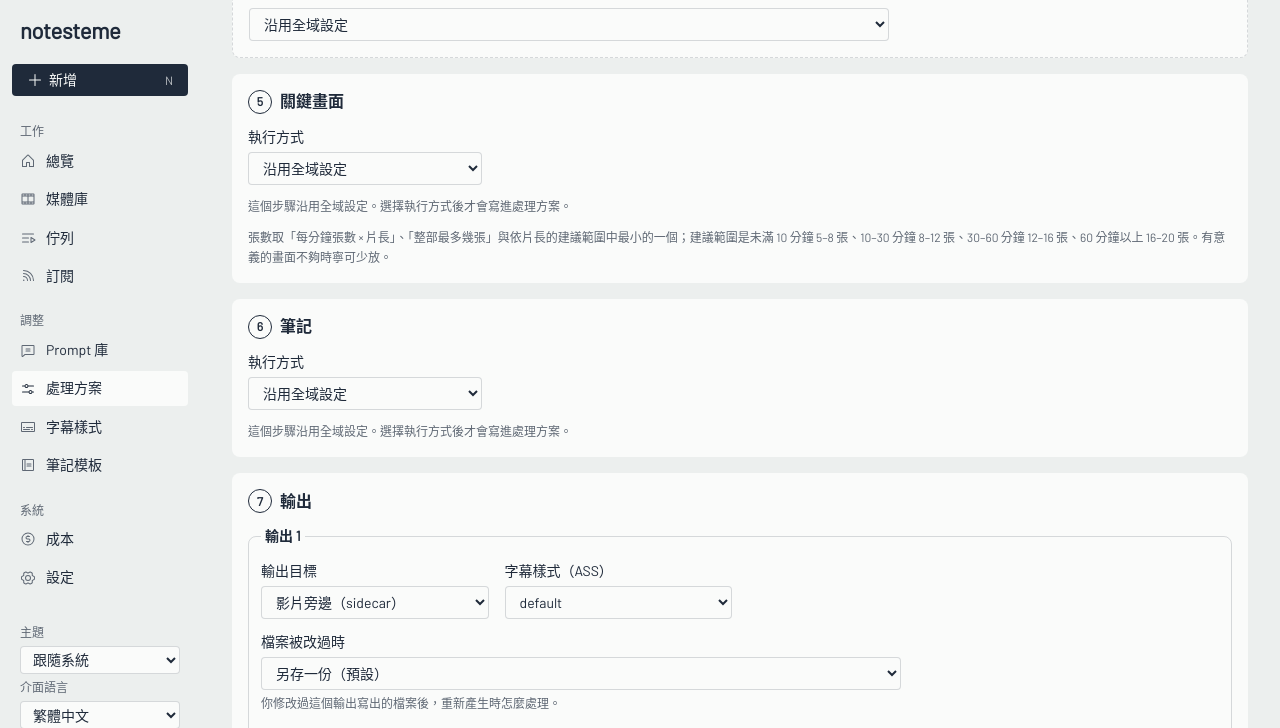
Scenario: 處理方案：編輯 › 筆記步驟的 422 顯示在筆記的欄位旁
(page scrolled)
Select "API 處理" in the 2nd dropdown labelled "執行方式" at coordinates (365, 394), box top-left (248, 377), bottom-right (482, 410)
(page scrolled)
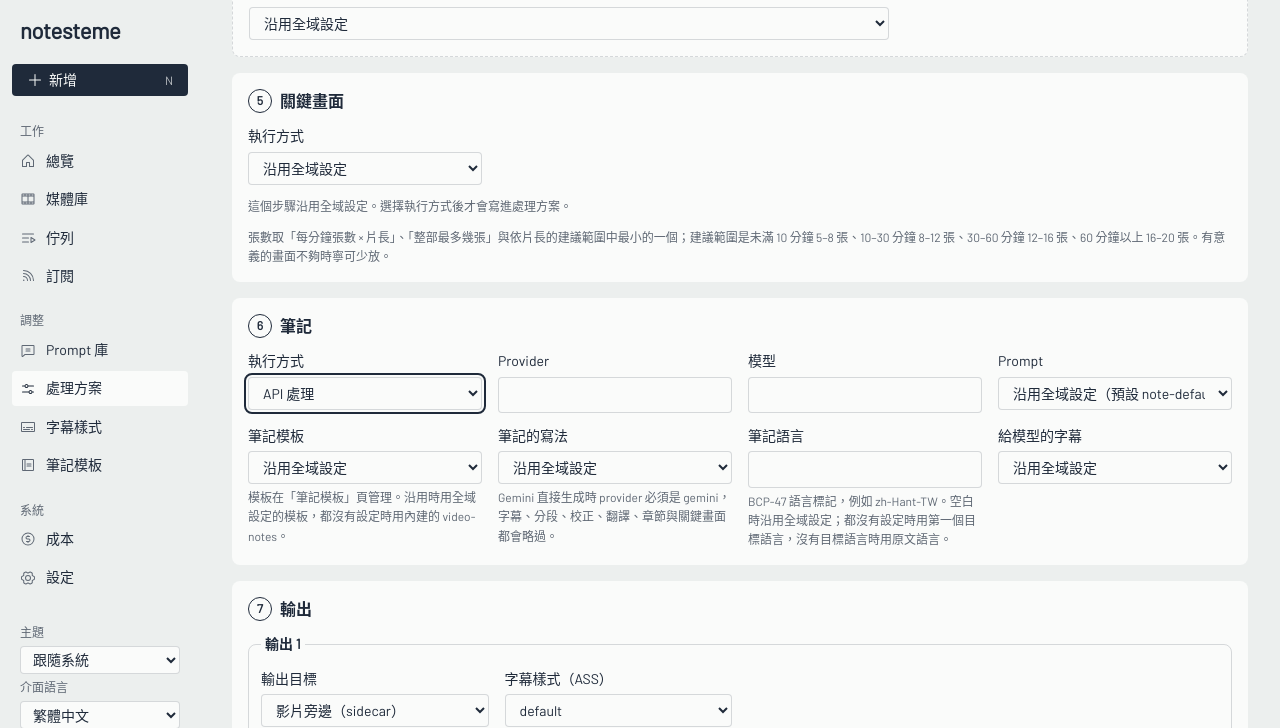
Type "anthropic" into the field labelled "Provider".
click(615, 395); type("anthropic")  # box top-left (498, 376), bottom-right (732, 413)
(page scrolled)
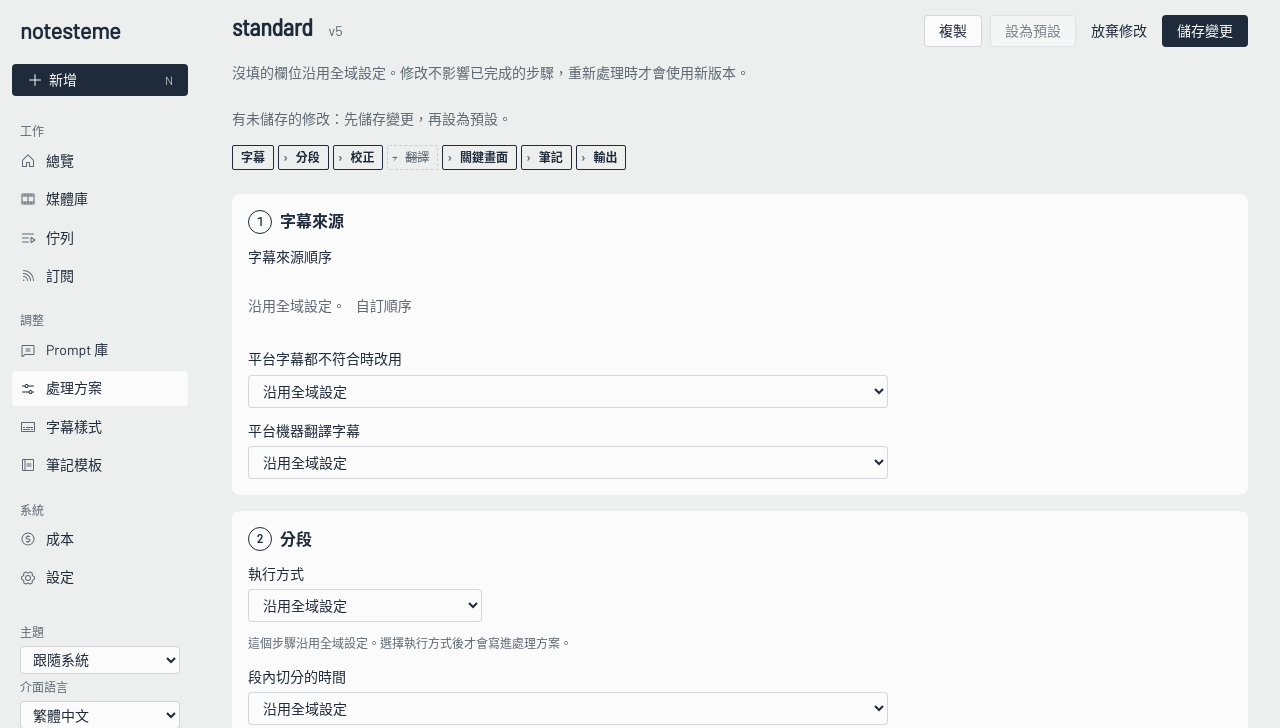
Click the button "儲存變更".
click(1205, 31)  # box top-left (1162, 15), bottom-right (1248, 47)
(page scrolled)
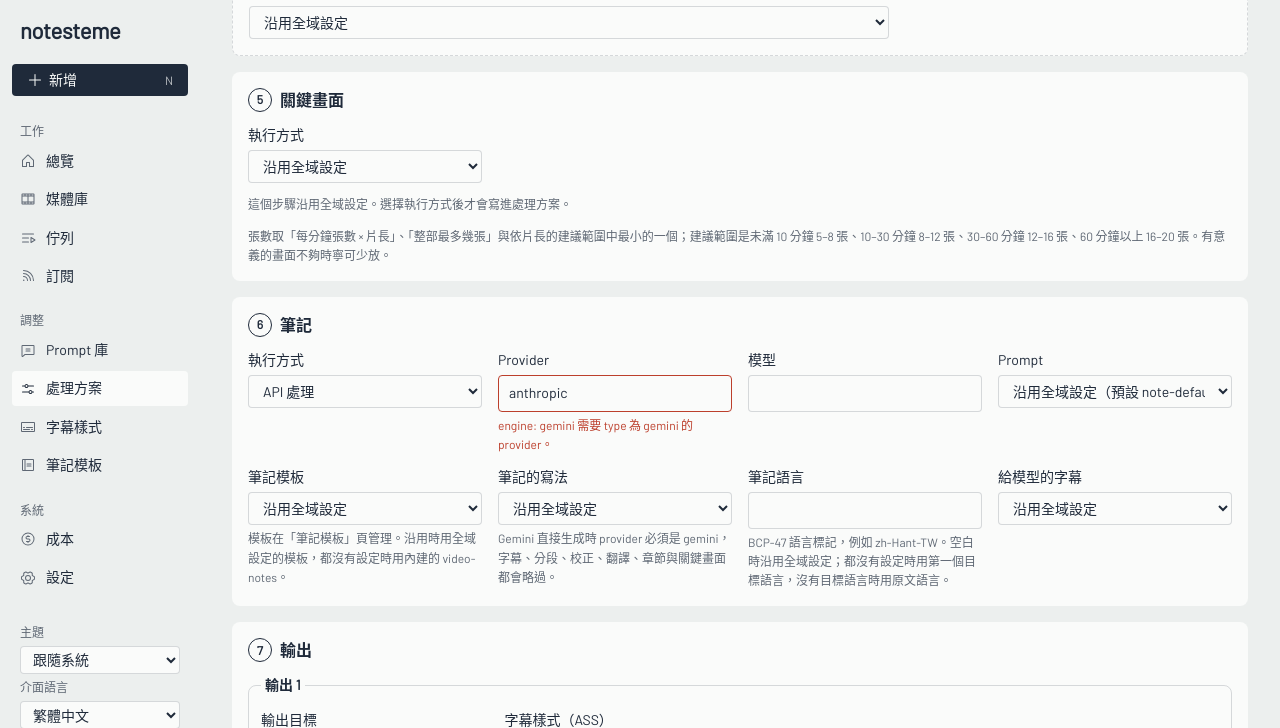
expect the text "engine: gemini 需要 type 為 gemini 的 provider。" is shown: met, box top-left (498, 418), bottom-right (693, 451)
